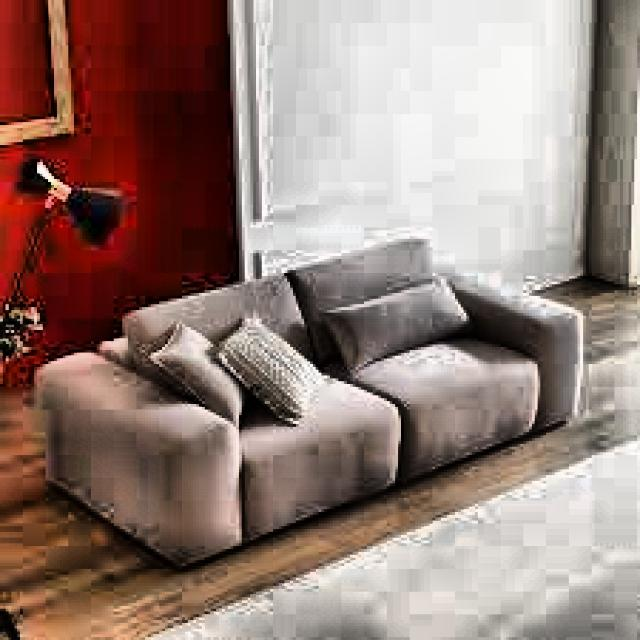sofa: (48, 256, 606, 558)
